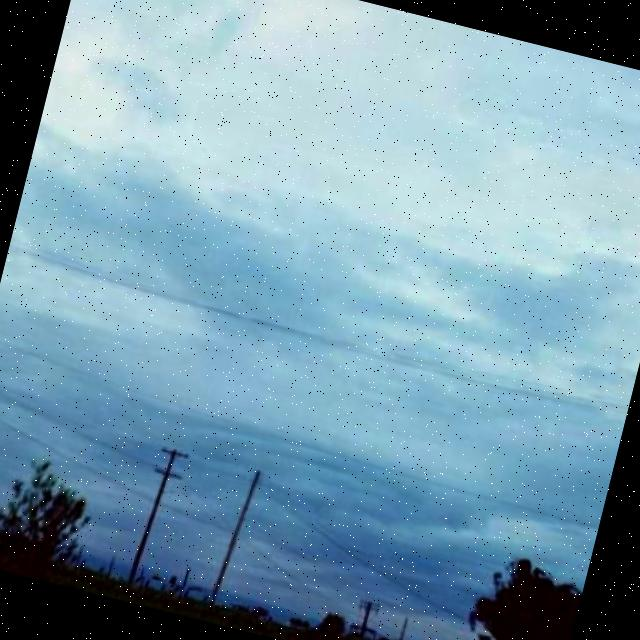Sc: (1, 1, 640, 511)
